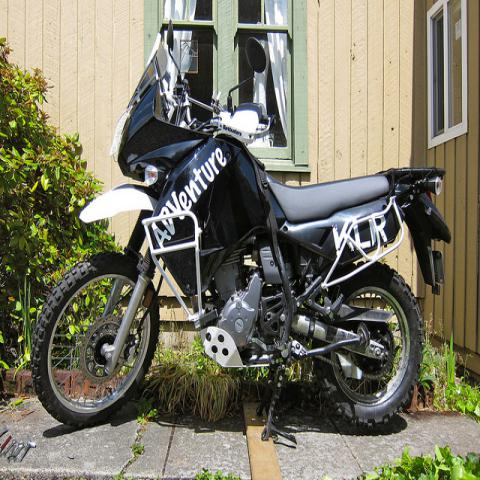motorcycle: (30, 24, 452, 444)
